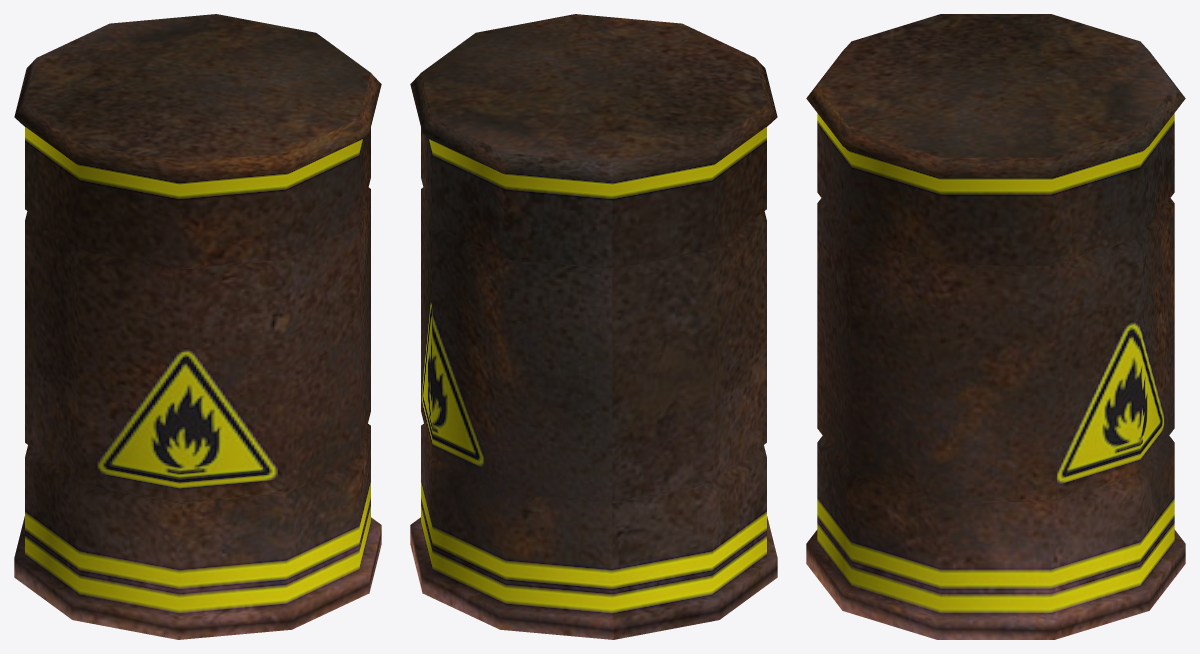
The model's file is Drum.fbx.
3 views of the same model, side by side, from view 1: azimuth 30°, elevation 25°; view 2: azimuth 150°, elevation 25°; view 3: azimuth 270°, elevation 25° (orthographic).
Parts seen in each view (by area): view 1: Drum; view 2: Drum; view 3: Drum.
Part boxes in pixels (bbox=[...]): Drum: bbox=[14, 14, 381, 639]; Drum: bbox=[410, 14, 777, 639]; Drum: bbox=[806, 14, 1185, 639].
Size of the model in its own units: 17.74 by 26.27 by 18.65.
1 material, 1 textured.
